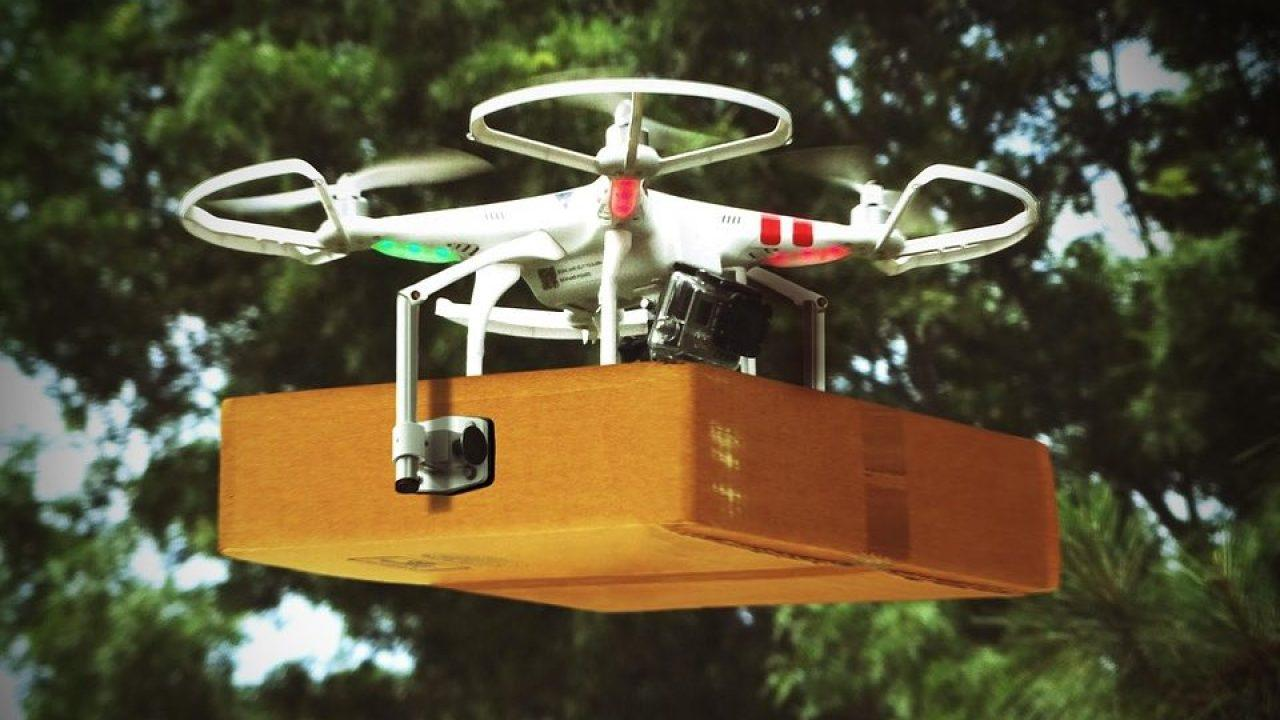Drone: (149, 46, 1073, 390)
